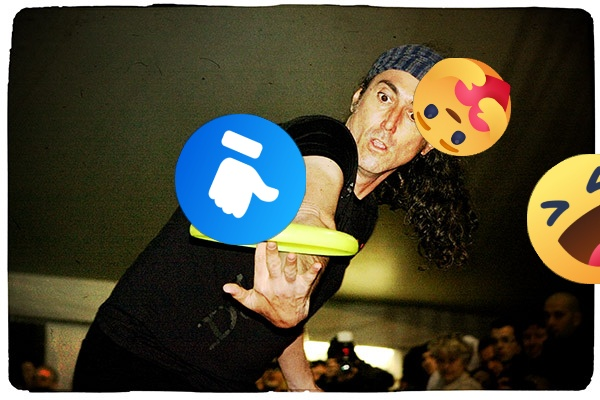care: (413, 58, 511, 156)
haha: (527, 154, 600, 284)
like: (175, 114, 306, 245)
